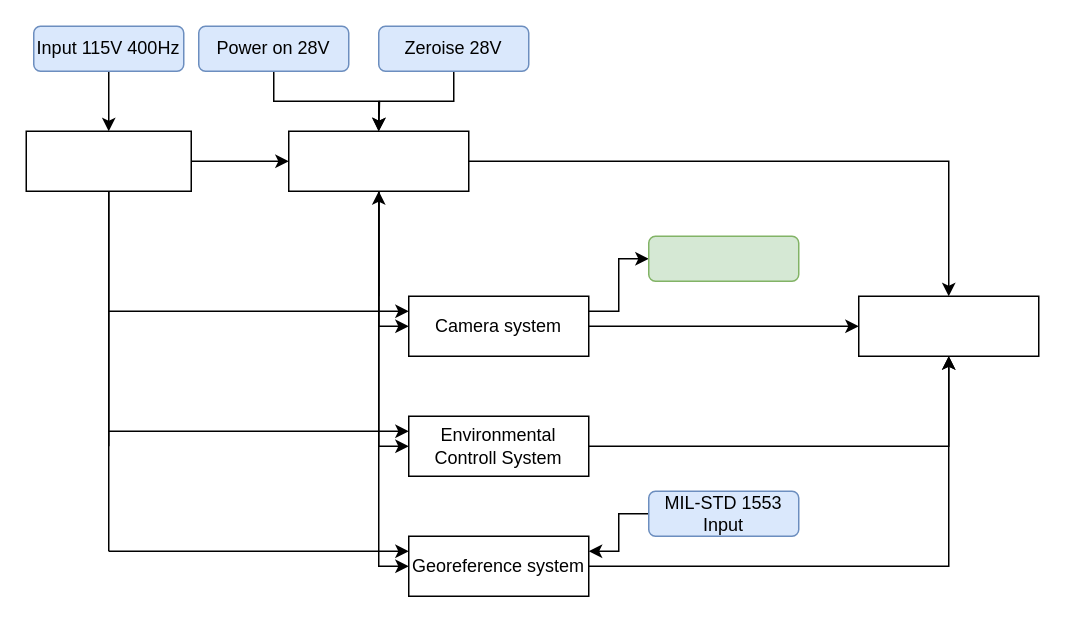
The diagram is 1065 pixels wide and 623 high, and some of its shapes have lost their labels. The centre of each missing label's shape, as x and y in pixels:
Memory system: (x=948, y=325)
RS-170 Output: (x=723, y=258)
URP Controll system: (x=378, y=160)
URP Power system: (x=108, y=160)
